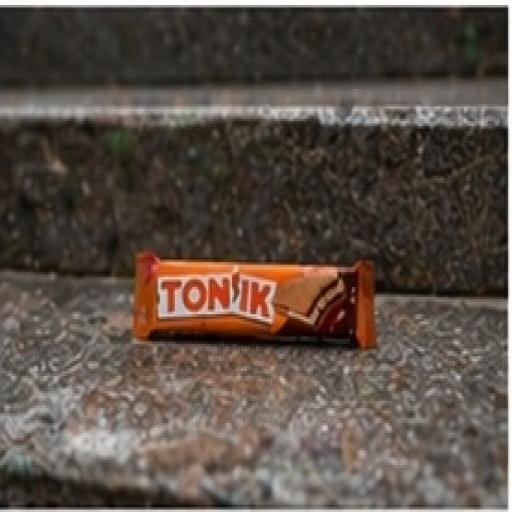tonik: (94, 171, 436, 458)
